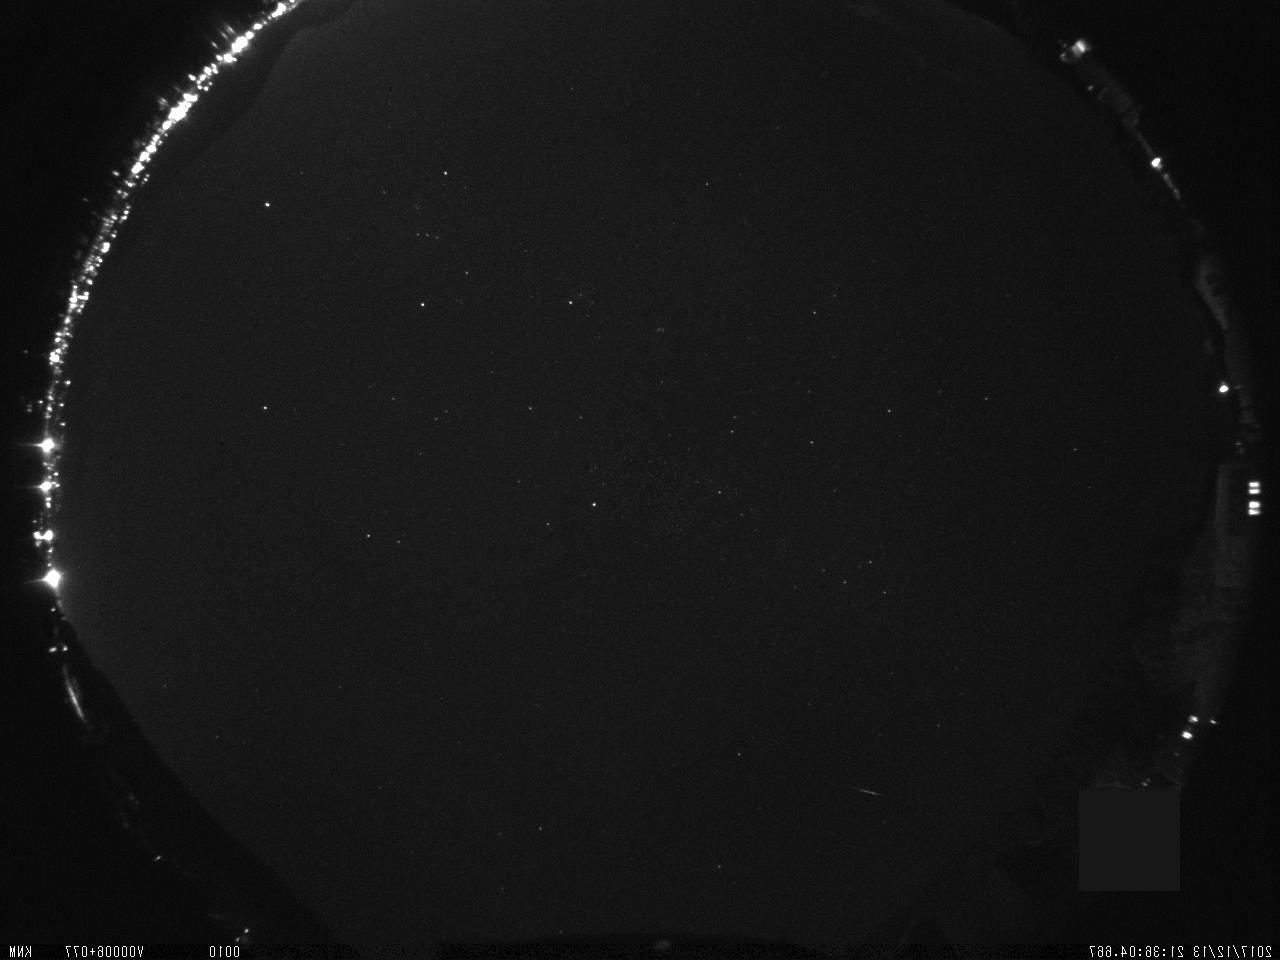meteor: (838, 776, 890, 810)
